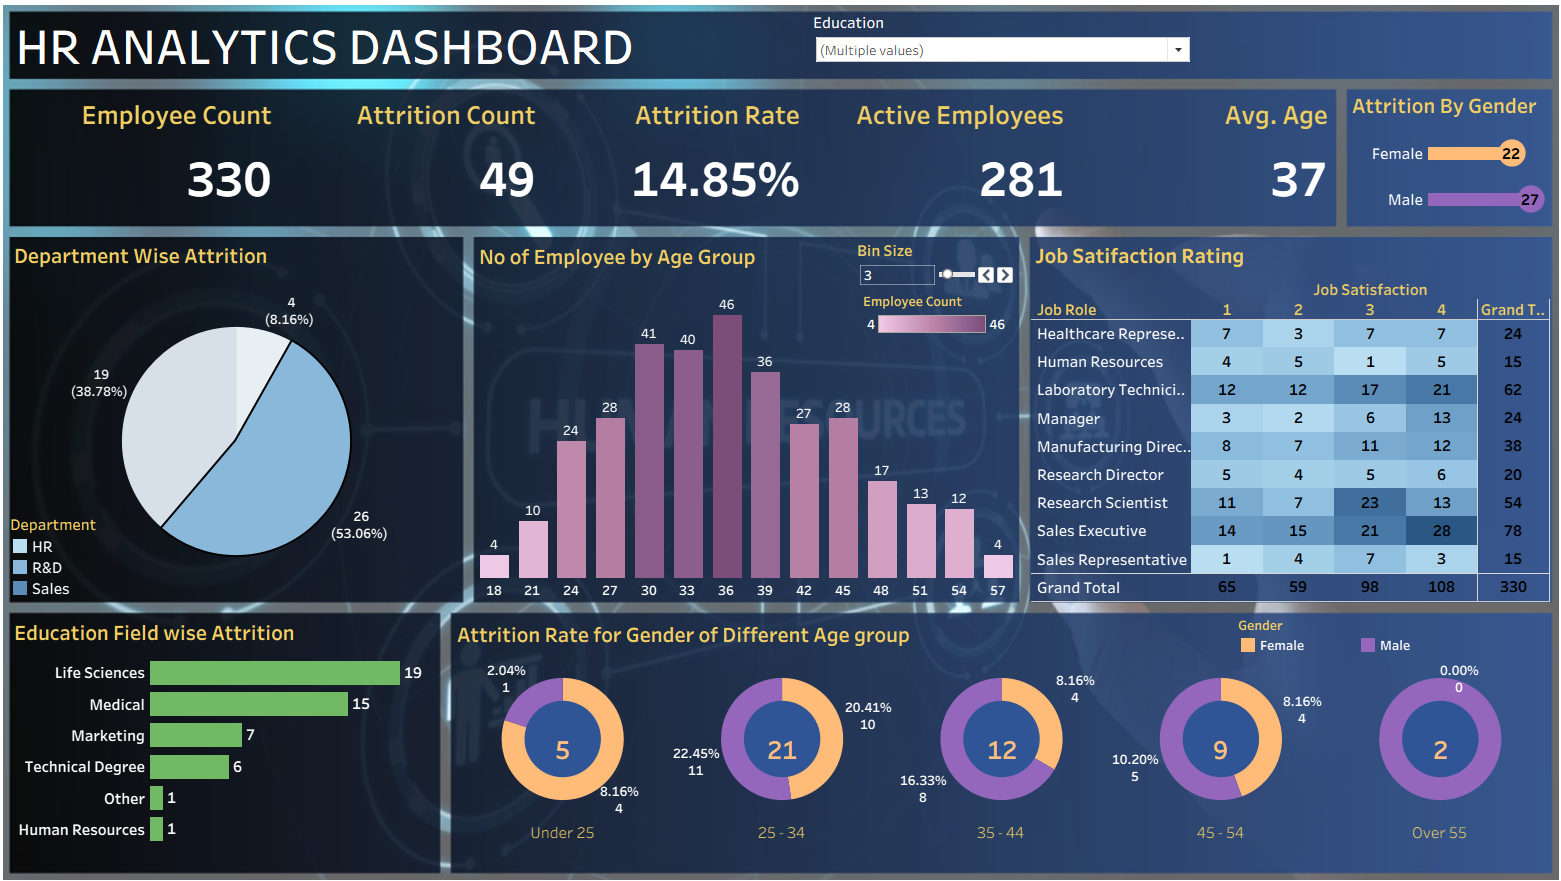

The page's visual inventory and layout, read from the dashboard file:
{"tool":"tableau","page":{"name":"HR ANALYSTICS DASHBOARD","canvas":[1580,900],"ordinal":0},"visuals":[{"type":"image","param":"C:/Users/tripa/Downloads/HR background.pptx.png","box":[8,8,1564,884]},{"type":"text","box":[21,19,740,66]},{"type":"filter","title":"Department Wise Attrition","param":"[federated.145v1s11e4t4sg1d7kdai1sl0dx5].[none:Education:nk]","box":[822,19,380,64]},{"type":"worksheet","title":"Attrition By Gender","mark":"Automatic","rows":["Gender"],"cols":["Calculation_2541853940887552","Calculation_2541853940887552"],"box":[1357,94,202,135]},{"type":"worksheet","title":"KPI","mark":"Text","box":[21,98,1320,133]},{"type":"worksheet","title":"Department Wise Attrition","mark":"Pie","box":[19,244,452,365]},{"type":"worksheet","title":"Job Satifaction Rating","mark":"Square","rows":["Job Role"],"cols":["Job Satisfaction"],"box":[1040,244,519,365]},{"type":"worksheet","title":"No of Employee by Age Group","mark":"Automatic","rows":["Employee Count"],"cols":["Age (bin)"],"box":[484,245,543,362]},{"type":"parameter","param":"[Parameters].[Parameter 1]","box":[866,247,159,50]},{"type":"legend","title":"No of Employee by Age Group","param":"[federated.145v1s11e4t4sg1d7kdai1sl0dx5].[sum:Employee Count:qk]","box":[872,299,147,52]},{"type":"legend","title":"Department Wise Attrition","param":"[federated.145v1s11e4t4sg1d7kdai1sl0dx5].[none:Department:nk]","box":[19,521,110,89]},{"type":"worksheet","title":"Education Field wise Attrition","mark":"Automatic","rows":["Education Field"],"cols":["Calculation_2541853940887552"],"box":[19,621,430,231]},{"type":"worksheet","title":"Attrition Rate for Gender of Different Age group","mark":"Pie","rows":["Calculation_2541853984591876","Calculation_2541853984591876"],"cols":["CF_age band"],"box":[462,623,1097,228]},{"type":"legend","title":"Attrition Rate for Gender of Different Age group","param":"[federated.145v1s11e4t4sg1d7kdai1sl0dx5].[none:Gender:nk]","box":[1247,623,315,46]}]}

Visuals, with their boxes in screenshot pixels (x1, y1, x2, y2), scaled from the page's 1580x900 canvas onto the 1561x881 screenshot:
image: region(8, 8, 1553, 873)
text: region(21, 19, 752, 83)
"Department Wise Attrition" filter: region(812, 19, 1188, 81)
"Attrition By Gender" worksheet: region(1341, 92, 1540, 224)
"KPI" worksheet (Text marks): region(21, 96, 1325, 226)
"Department Wise Attrition" worksheet (Pie marks): region(19, 239, 465, 596)
"Job Satifaction Rating" worksheet (Square marks): region(1027, 239, 1540, 596)
"No of Employee by Age Group" worksheet: region(478, 240, 1015, 594)
parameter: region(856, 242, 1013, 291)
"No of Employee by Age Group" legend: region(862, 293, 1007, 344)
"Department Wise Attrition" legend: region(19, 510, 127, 597)
"Education Field wise Attrition" worksheet: region(19, 608, 444, 834)
"Attrition Rate for Gender of Different Age group" worksheet (Pie marks): region(456, 610, 1540, 833)
"Attrition Rate for Gender of Different Age group" legend: region(1232, 610, 1543, 655)
